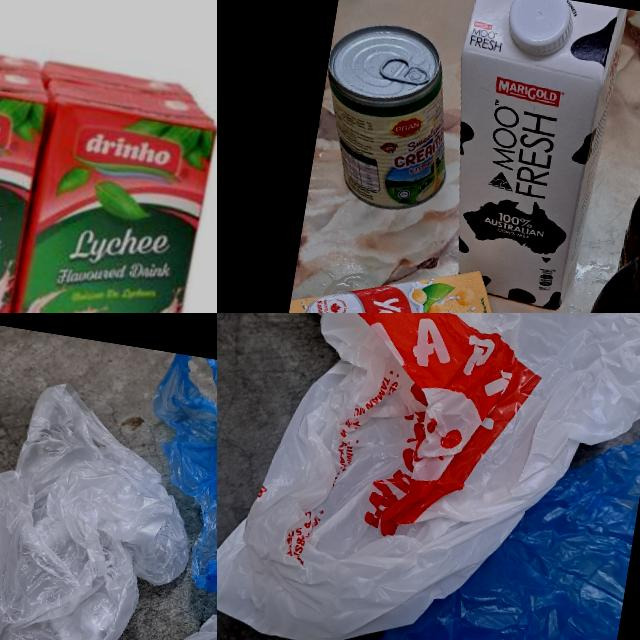aba de lata: (378, 54, 432, 87)
caixinha: (0, 3, 217, 313), (421, 0, 629, 313), (273, 242, 513, 313)
lata: (308, 16, 466, 218)
sacola plástica: (217, 313, 640, 640), (0, 356, 207, 640), (119, 350, 217, 621), (105, 468, 217, 640)
